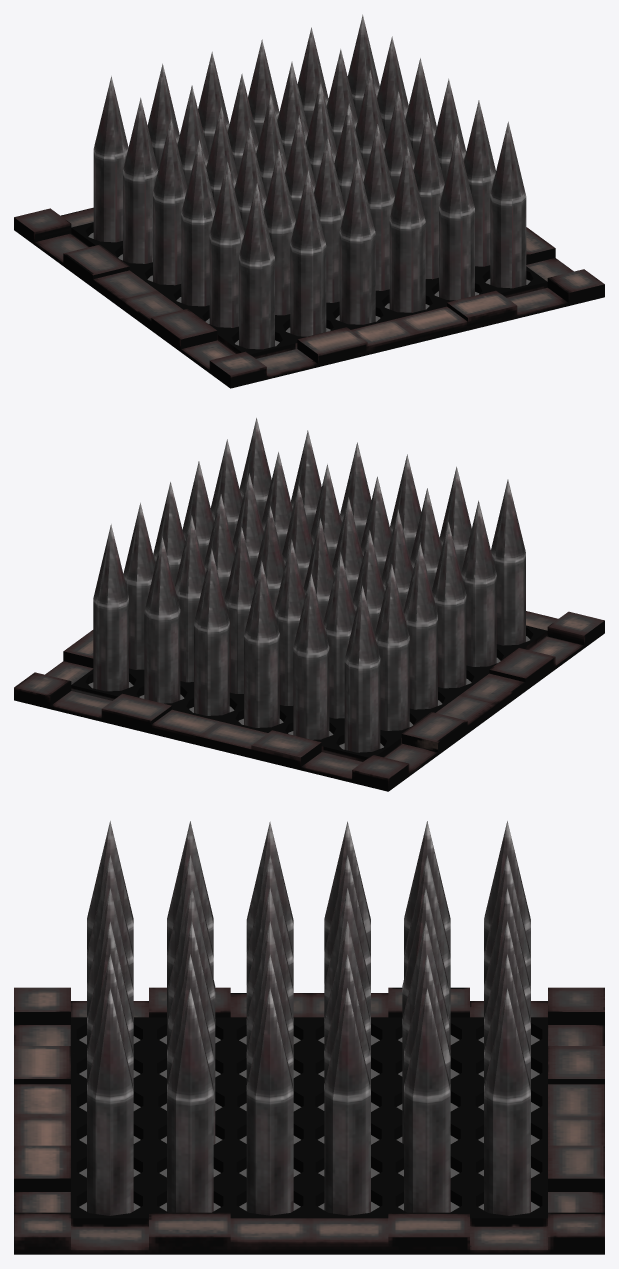
Rendered from modelSpikeTrap.fbx.
The picture shows the model from 3 angles, top to bottom: view 1: azimuth 30°, elevation 25°; view 2: azimuth 150°, elevation 25°; view 3: azimuth 270°, elevation 25°; orthographic projection. The views are drawn at different scales.
Visible parts, largest first — view 1: spikes, trap_body; view 2: spikes, trap_body; view 3: spikes, trap_body, hole.
Part boxes in pixels (box(x1,y1,x2,y2)): spikes: box(93, 14, 526, 349); trap_body: box(14, 207, 604, 388); spikes: box(93, 418, 525, 752); trap_body: box(14, 611, 604, 791); spikes: box(87, 821, 530, 1215); trap_body: box(14, 987, 604, 1254); hole: box(79, 1035, 539, 1211).
Bounding box in the file's own units: 7.42 × 3.46 × 7.43.
3 materials, 2 textured.
